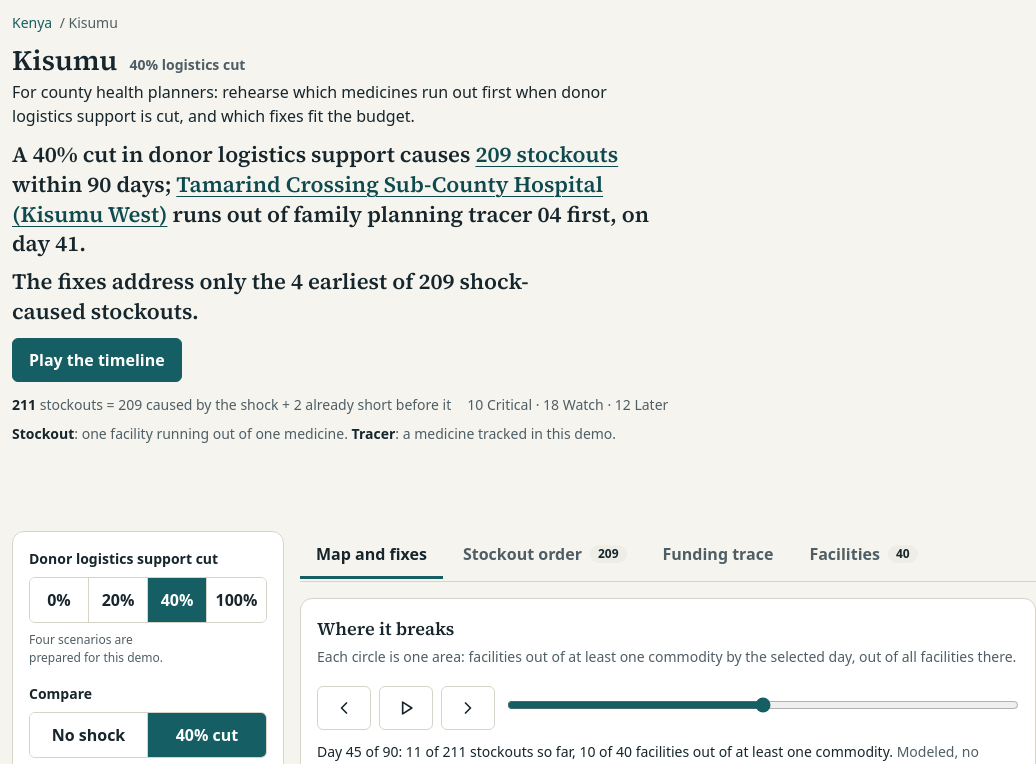
Test case: compares the selected shock with the no-shock run
This screenshot has width=1036, height=764.
Expected: the element named "What breaks first" shows "209 stockouts", [475, 139, 618, 169]
Click the radio button labelled "No shock".
click(89, 735)  # box [30, 713, 148, 757]
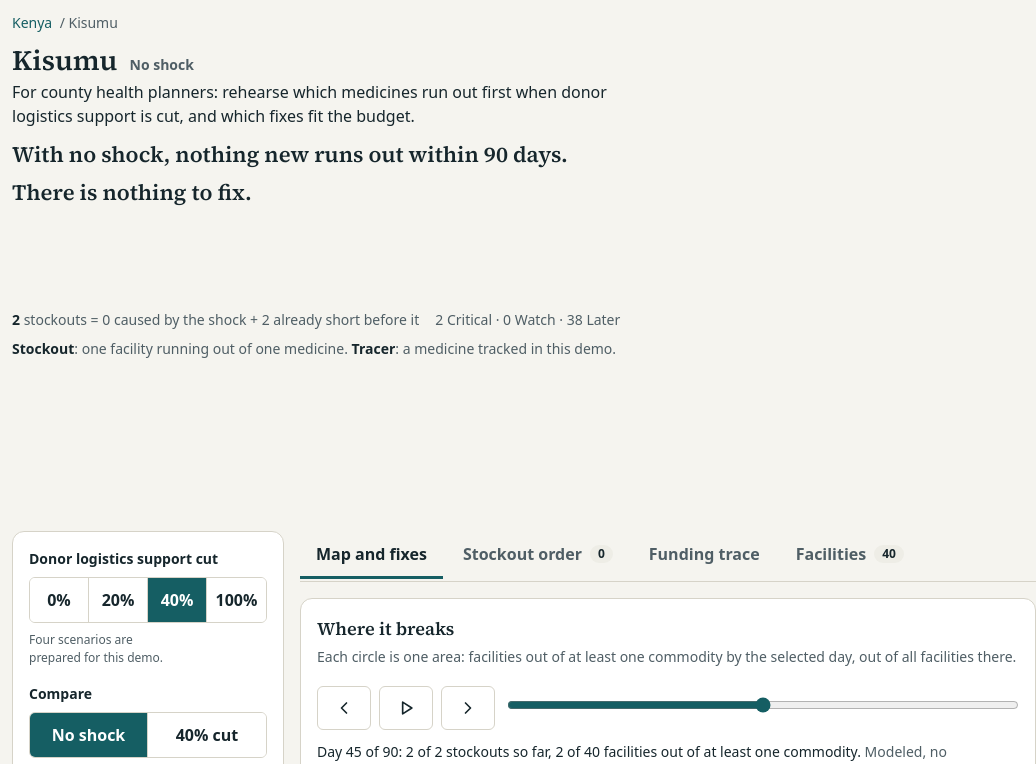
Expected: the element named "What breaks first" shows "With no shock", [12, 139, 568, 169]
Click the radio button labelled "40% cut".
click(207, 735)  # box [148, 713, 266, 757]
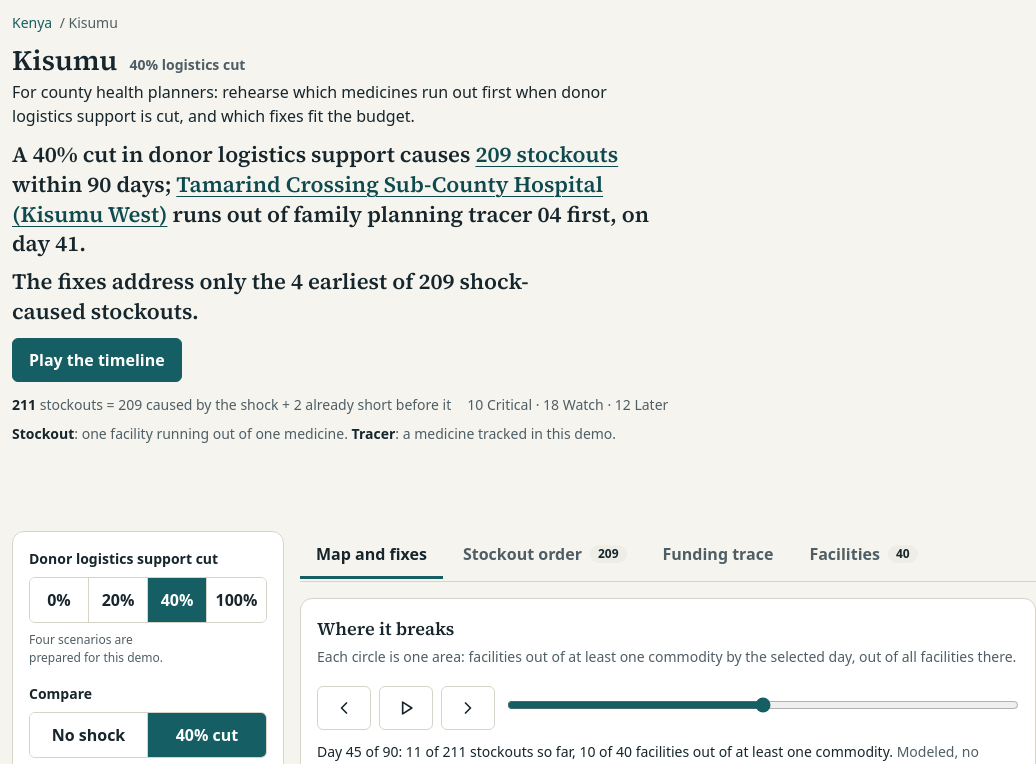
Expected: the element named "What breaks first" shows "209 stockouts", [475, 139, 618, 169]
